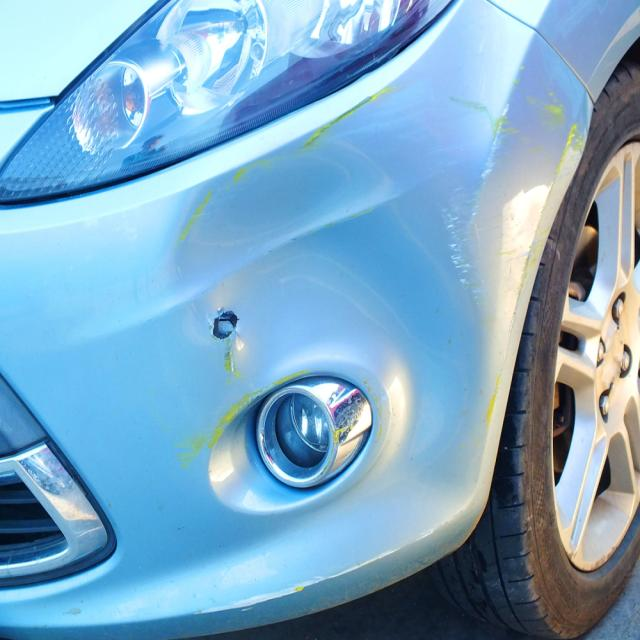Cabossage: (158, 118, 461, 450)
Dechirure: (203, 289, 246, 352)
Rayure: (480, 66, 585, 466), (175, 81, 412, 249), (167, 316, 306, 496)
